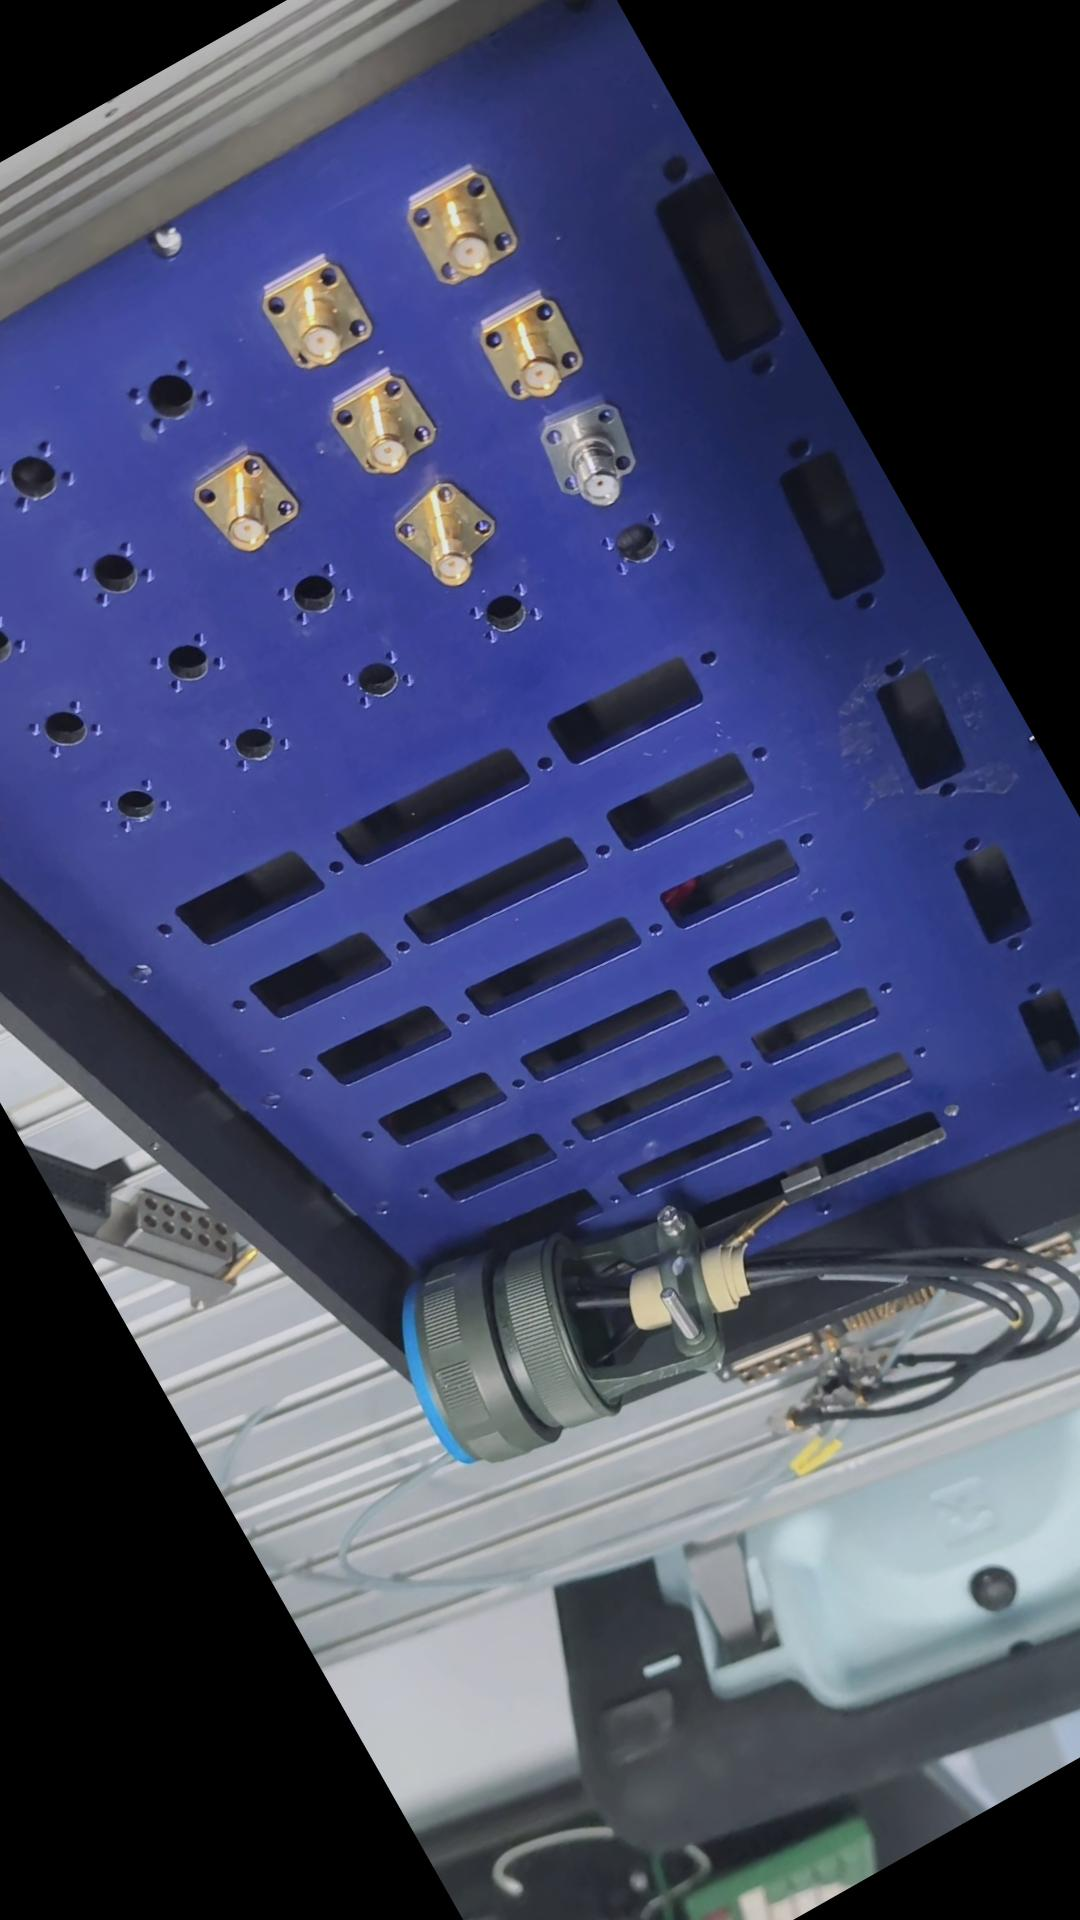SMA: (385, 156, 527, 305), (524, 385, 659, 522), (247, 247, 381, 384), (375, 468, 504, 603), (467, 286, 588, 410), (185, 440, 303, 564), (322, 369, 436, 489)
